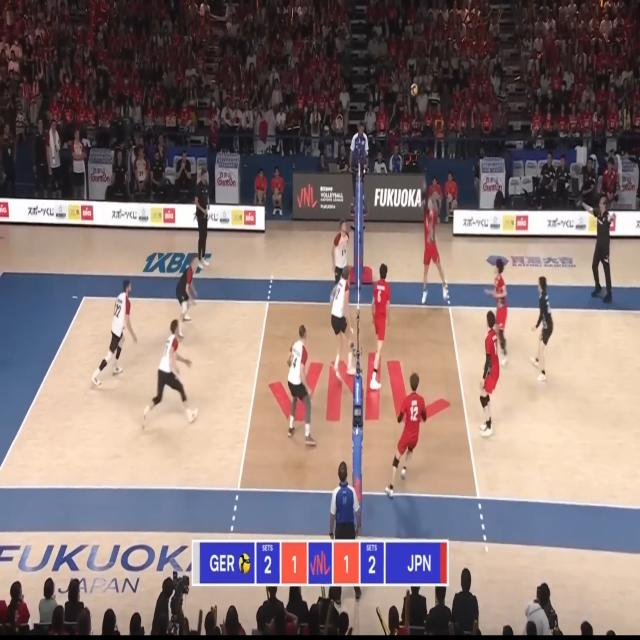ball: (411, 84, 418, 96)
